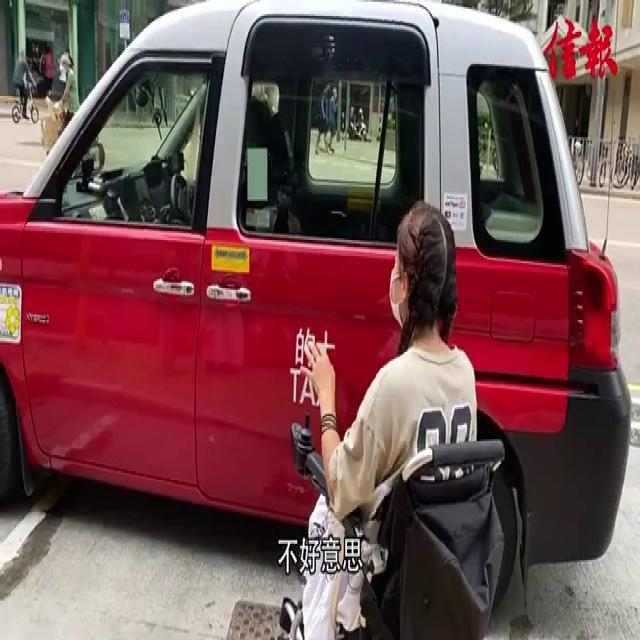wheelchairs: (280, 394, 535, 640)
